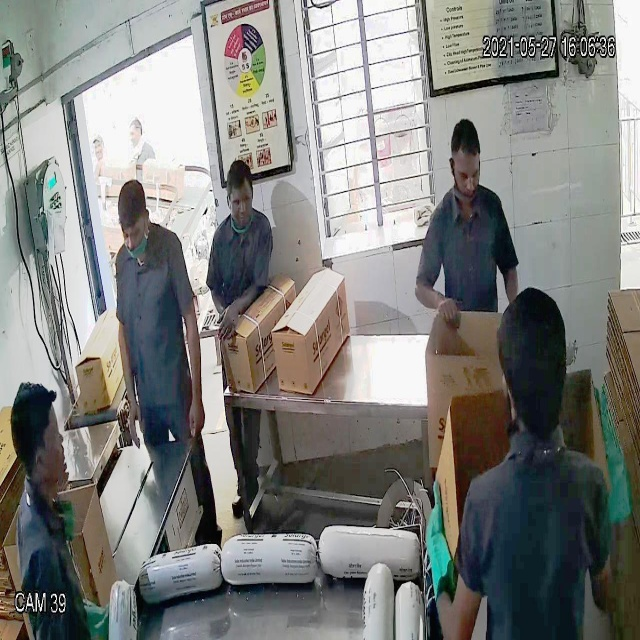Sin_gafas: (450, 152, 486, 189), (117, 219, 146, 250)
